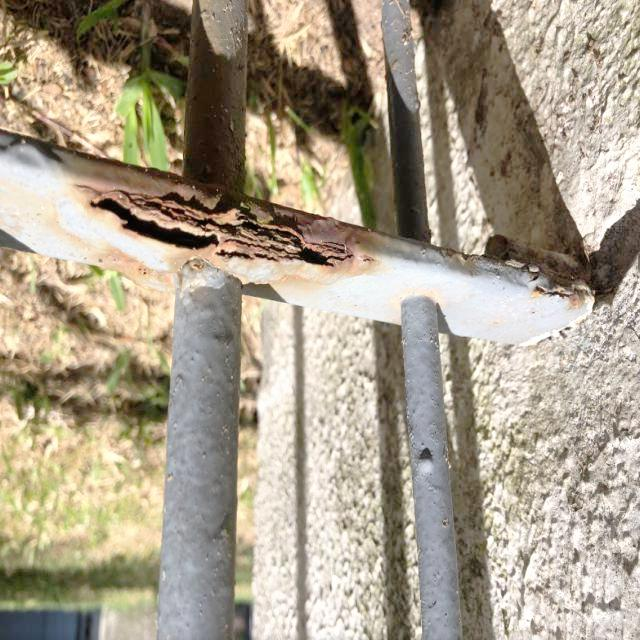Corrosion: (77, 154, 378, 297), (485, 237, 592, 307)
